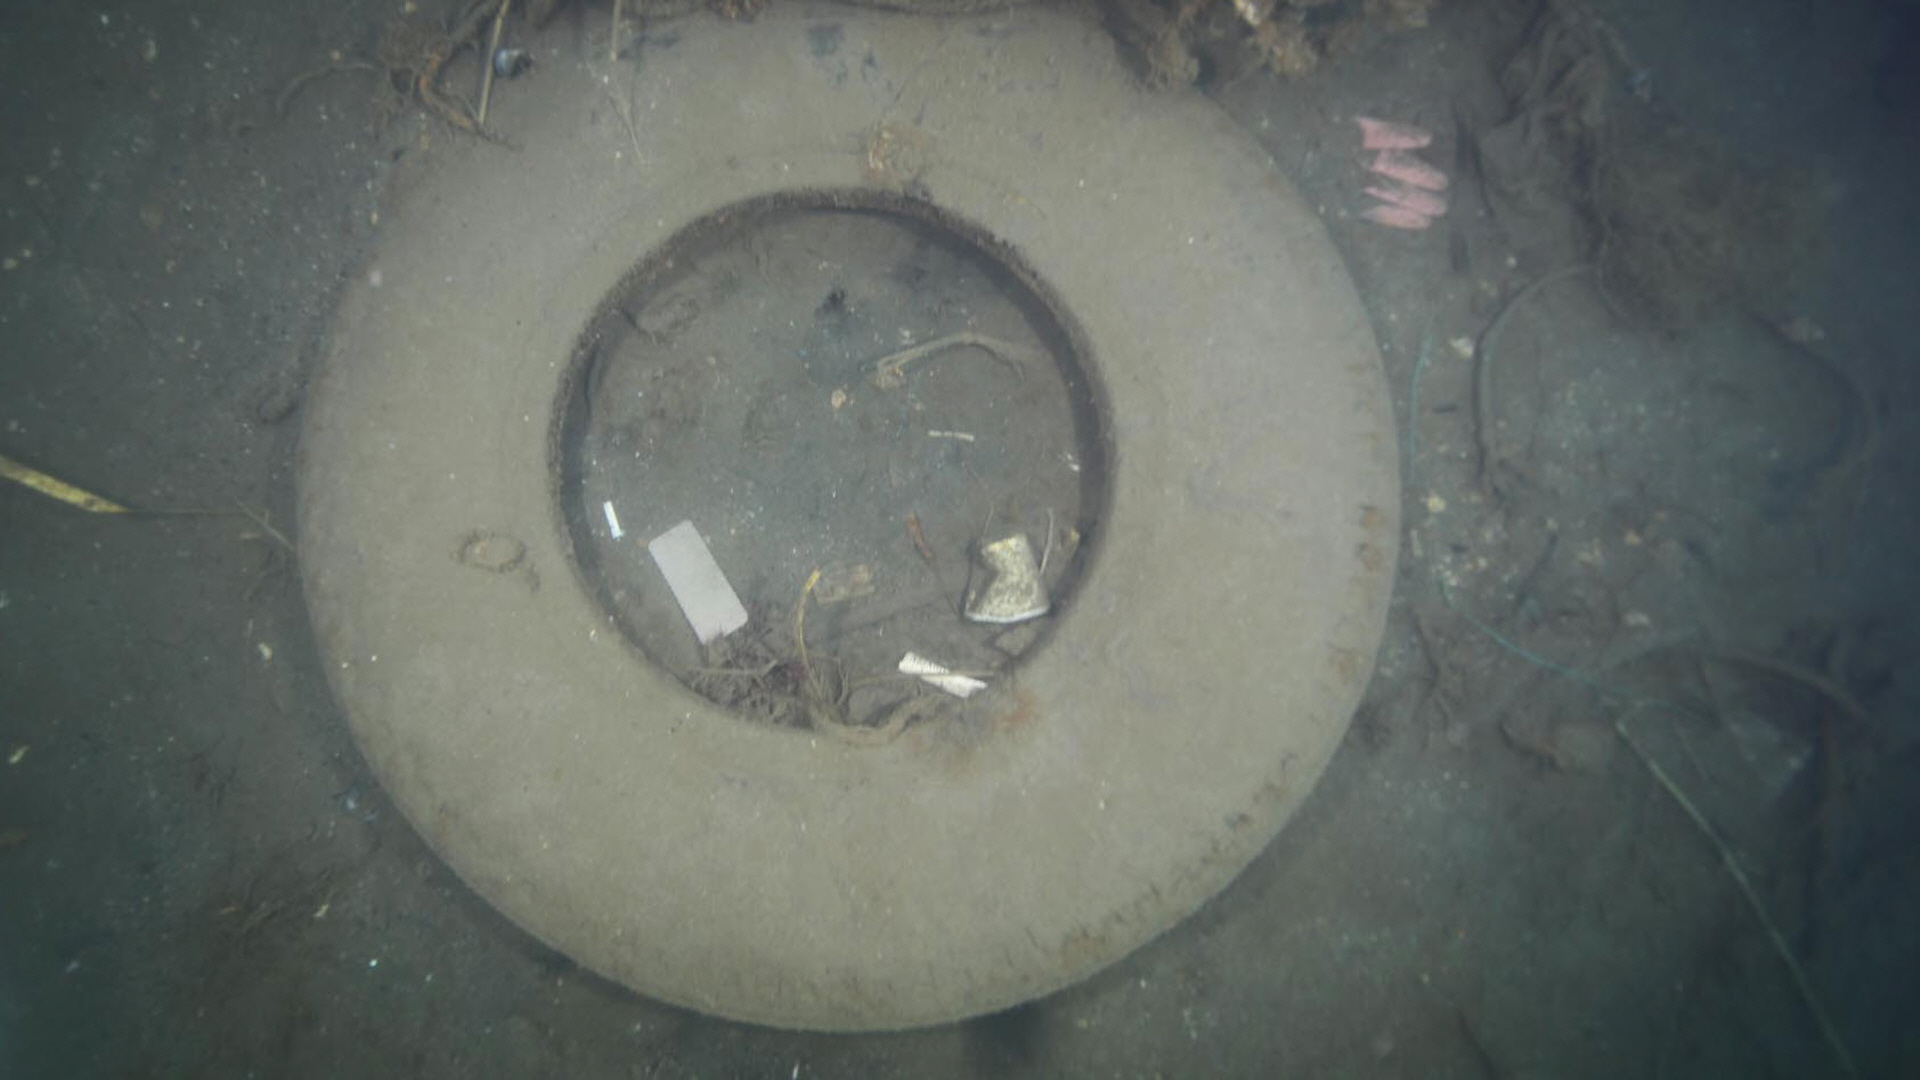tire: (295, 7, 1404, 1035)
